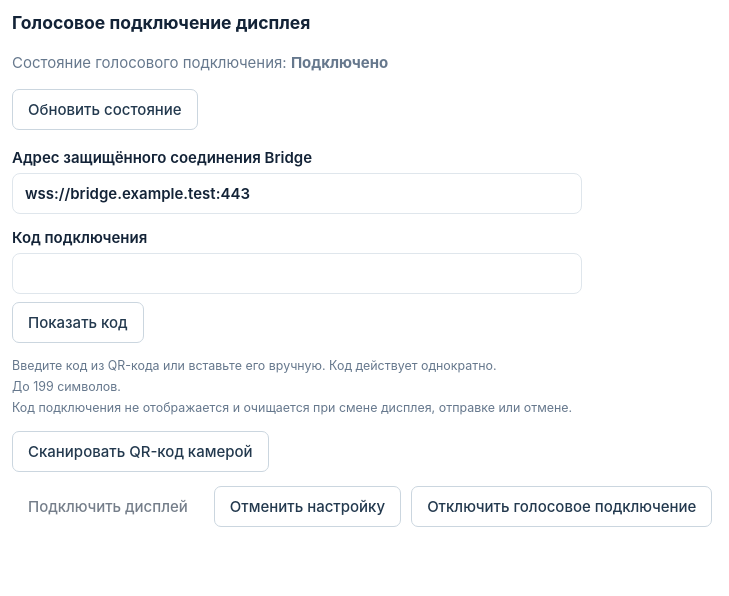
drops a connected claim when refresh fails and recovers on retry
Expected: the text "Подключено" is shown, [291, 52, 388, 72]
Click the button "Отменить настройку" at (307, 506), box [214, 486, 401, 527]
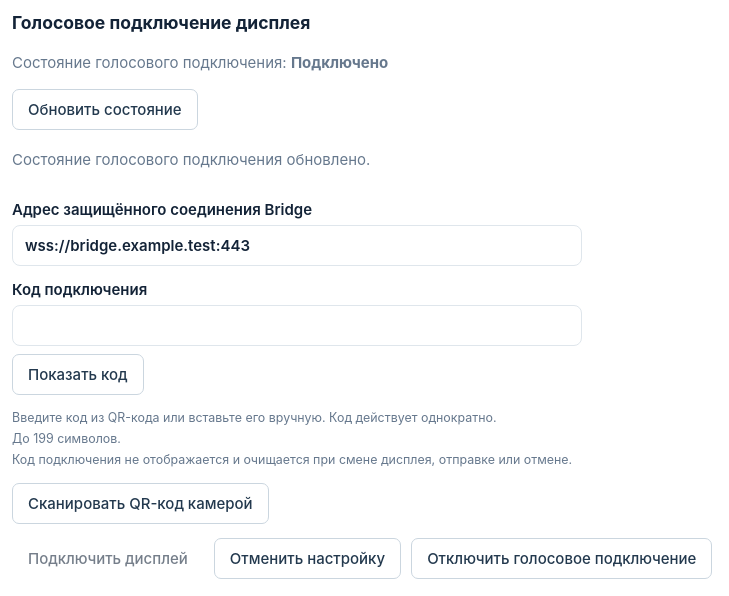
Expected: the message shows "Состояние голосового подключения обновлено", [12, 150, 370, 169]
Click the button "Обновить состояние" at (105, 109), box [12, 89, 198, 130]
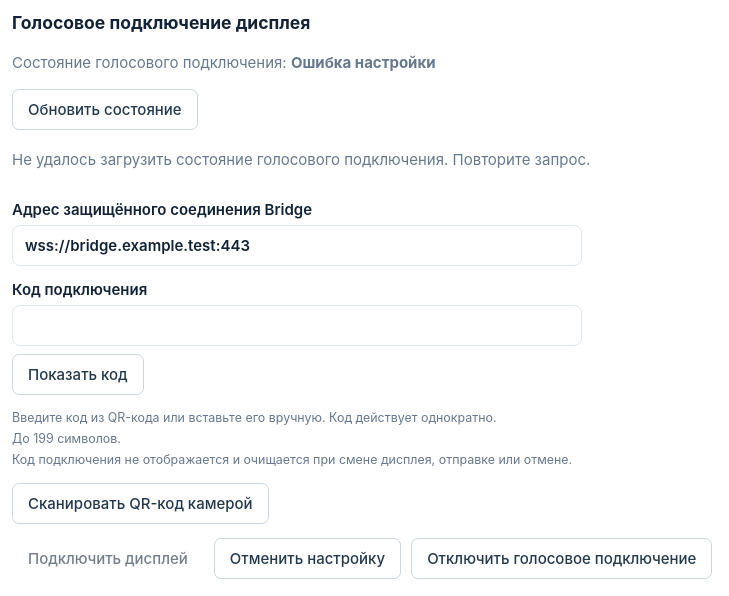
Expected: the message shows "Не удалось загрузить состояние", [12, 150, 590, 169]
Expected: the text "Подключено" is gone
Click the button "Обновить состояние" at (105, 109), box [12, 89, 198, 130]
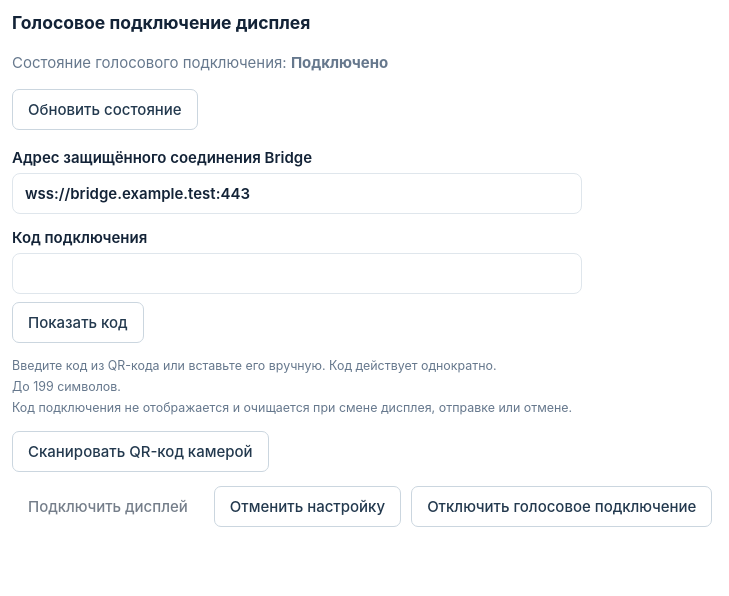
Expected: the text "Подключено" is shown, [291, 52, 388, 72]
Expected: the message "Не удалось загрузить состояние голосового подключения. Повторите запрос." is gone
